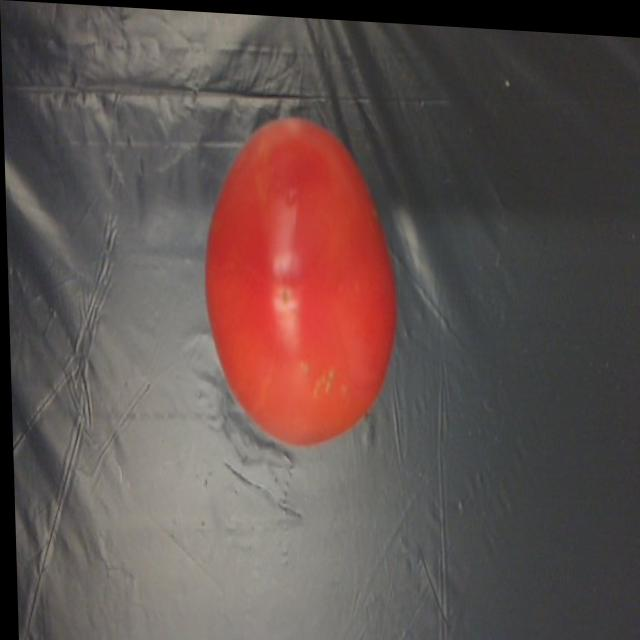kirmizi: (189, 113, 421, 470)
